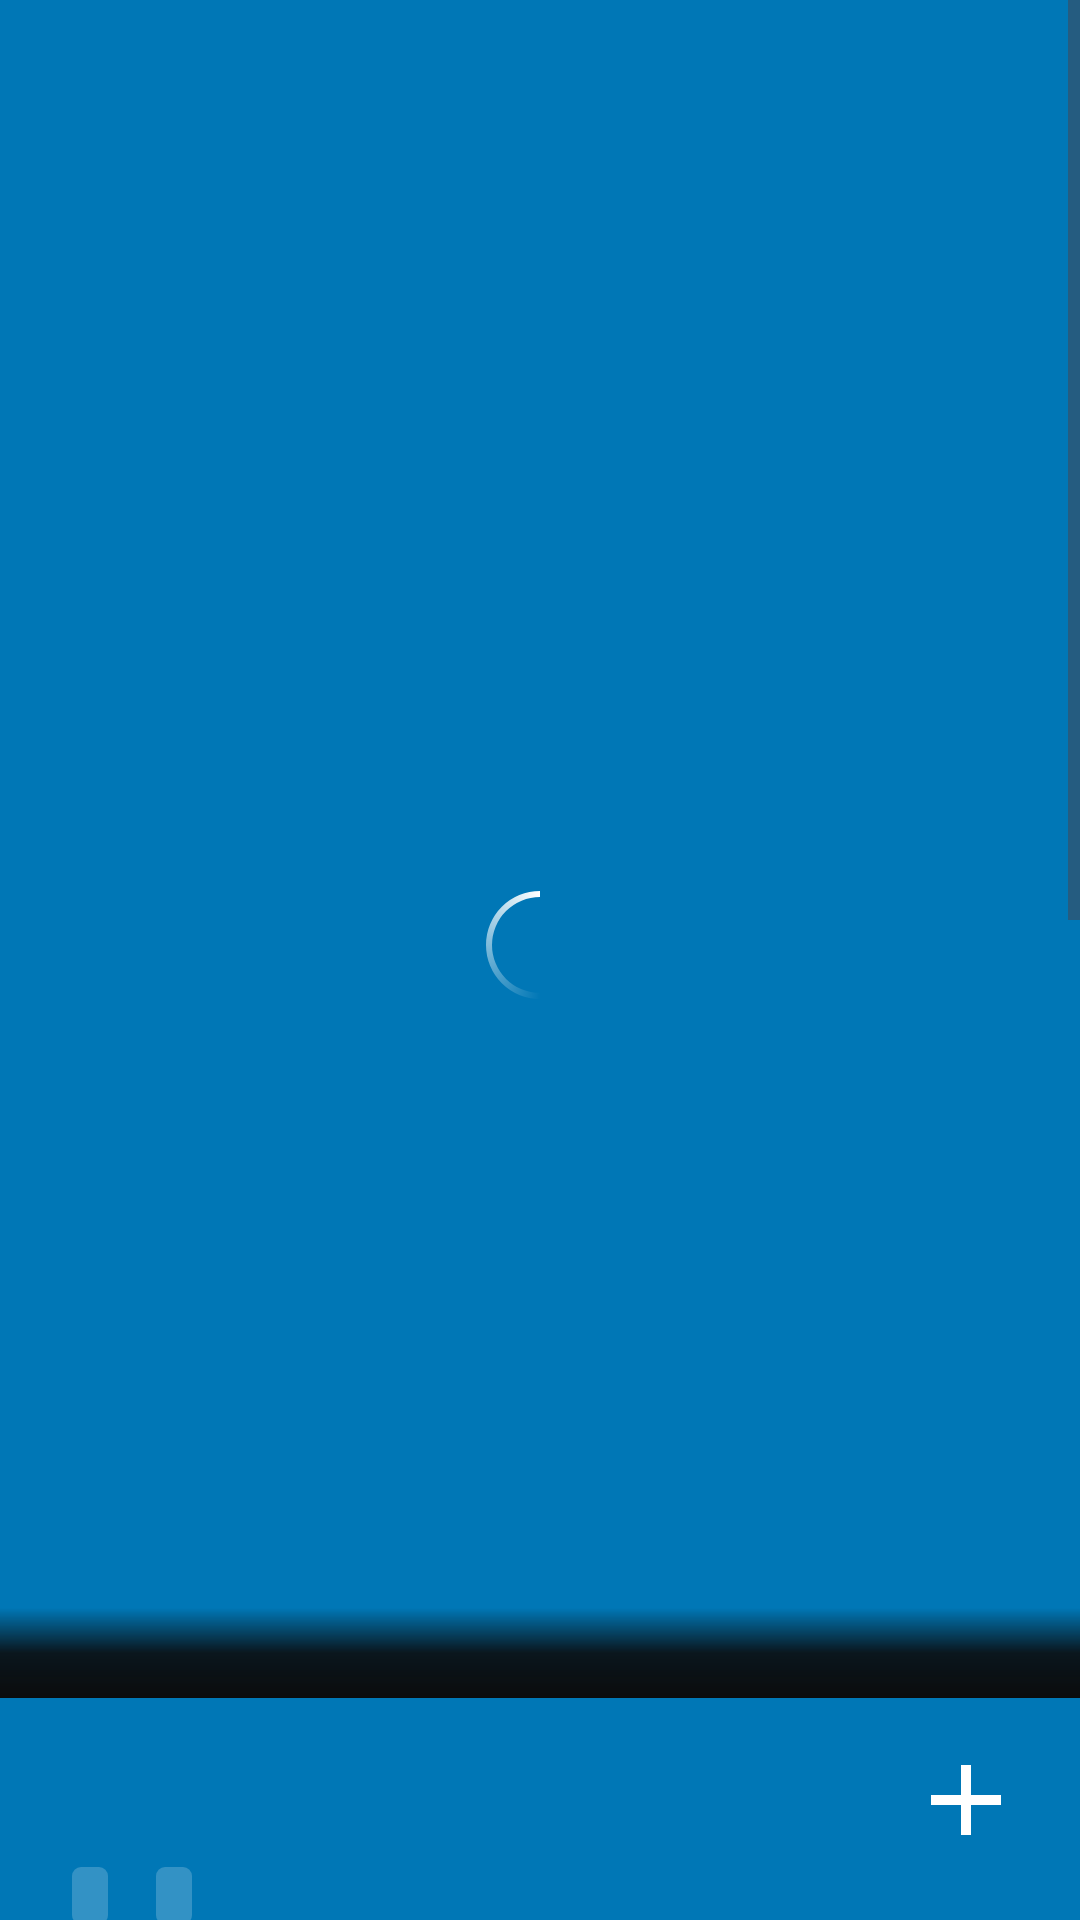

Screen size 1080px×1920px. Icon name, then its center in pixels as (x=x, y=y):
add: (x=966, y=1800)
